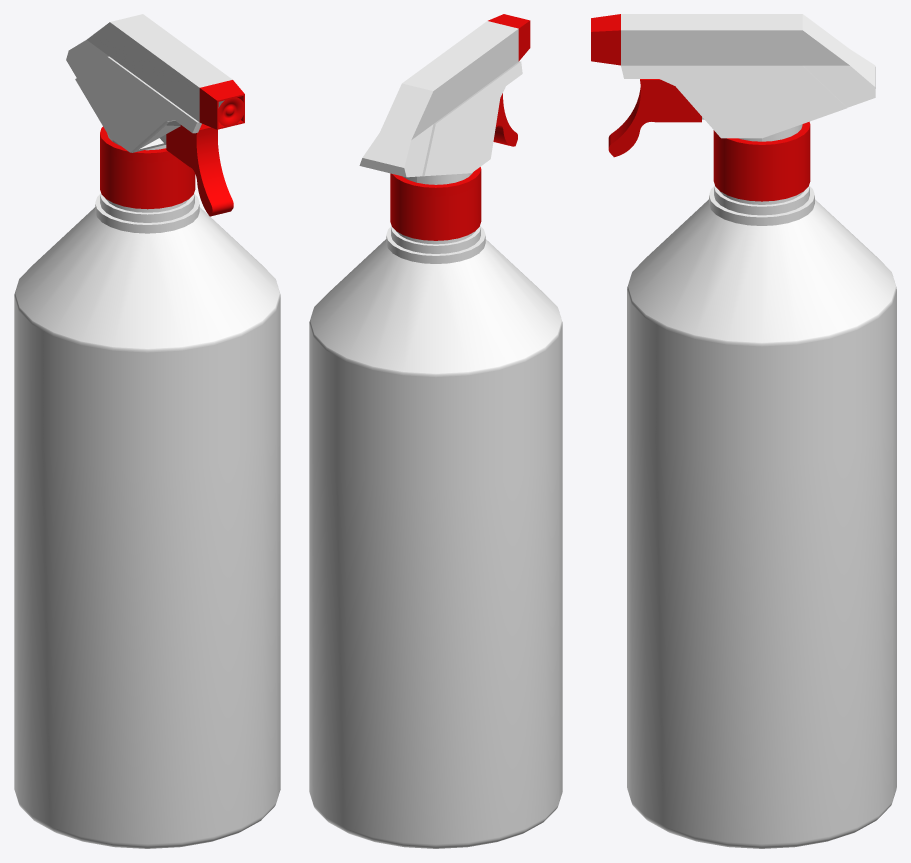
3 renders of one model, left to right at view 1: azimuth 30°, elevation 25°; view 2: azimuth 150°, elevation 25°; view 3: azimuth 270°, elevation 25°, orthographic. The views are drawn at different scales.
Visible parts, largest first — view 1: sprayhead1/sprayhead/mesh13/mesh13-geometry#mesh13-geometry; view 2: sprayhead1/sprayhead/mesh13/mesh13-geometry#mesh13-geometry; view 3: sprayhead1/sprayhead/mesh13/mesh13-geometry#mesh13-geometry.
Boxes of the visible parts, box(x1,y1,x2,y2) form: sprayhead1/sprayhead/mesh13/mesh13-geometry#mesh13-geometry: box(14, 14, 280, 848); sprayhead1/sprayhead/mesh13/mesh13-geometry#mesh13-geometry: box(309, 14, 562, 848); sprayhead1/sprayhead/mesh13/mesh13-geometry#mesh13-geometry: box(591, 14, 896, 848).
Bounding box in the file's own units: 0.5345 × 1.69 × 0.6058.
